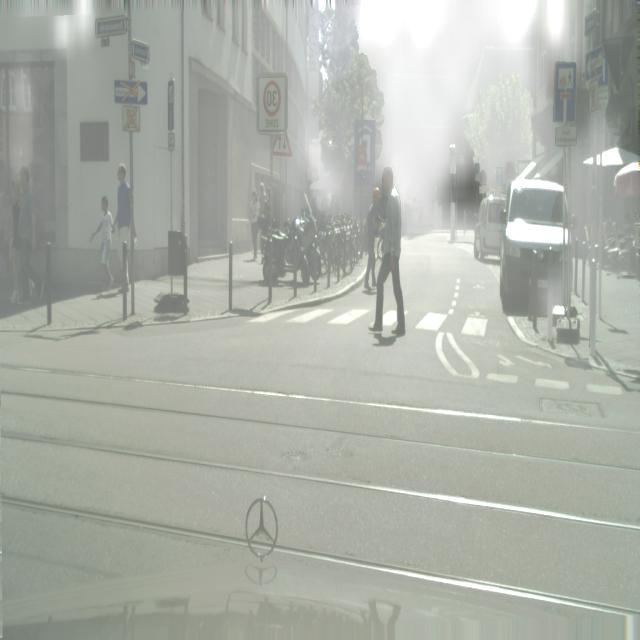bus: (266, 206, 345, 296)
person: (369, 166, 406, 337), (112, 164, 138, 289), (16, 166, 37, 303), (363, 186, 385, 292), (90, 196, 115, 287), (249, 190, 260, 261)
truck: (499, 176, 571, 311), (473, 194, 507, 262)
